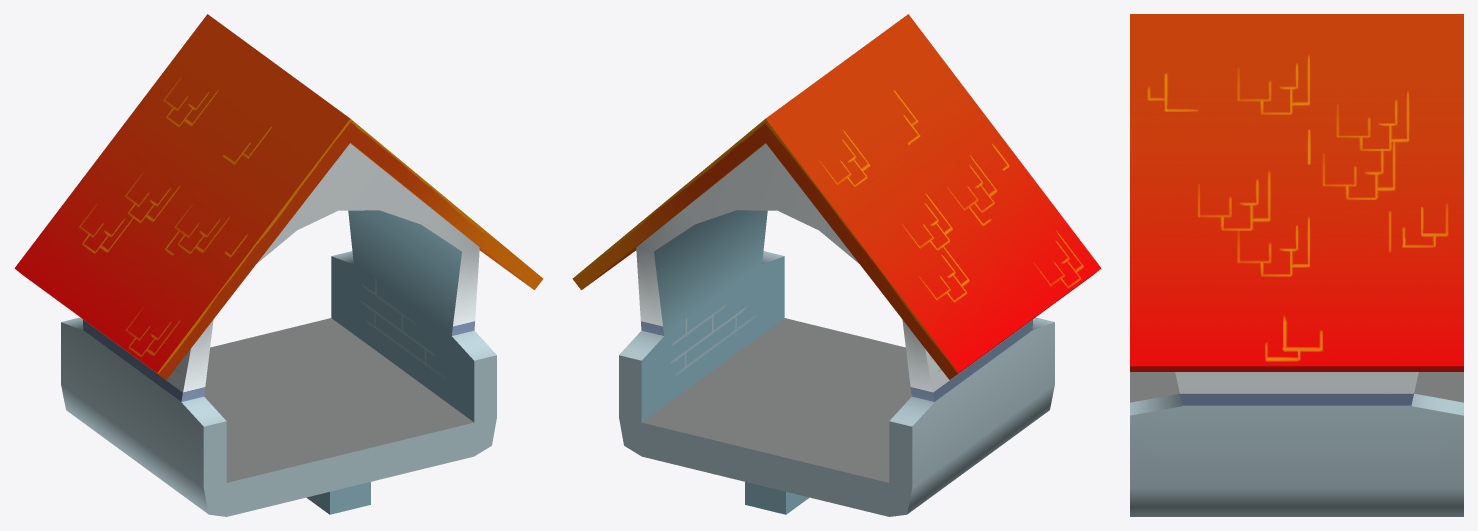
Rendered from Bridge6.fbx.
3 views of the same model, side by side, from view 1: azimuth 30°, elevation 25°; view 2: azimuth 150°, elevation 25°; view 3: azimuth 270°, elevation 25° (orthographic). The views are drawn at different scales.
Visible parts, largest first — view 1: Bridge6; view 2: Bridge6; view 3: Bridge6.
Boxes of the visible parts, <box> form: Bridge6: <box>14,14,543,516</box>; Bridge6: <box>572,14,1101,516</box>; Bridge6: <box>1130,14,1463,516</box>.
Bounding box in the file's own units: 18.72 × 18.12 × 12.
